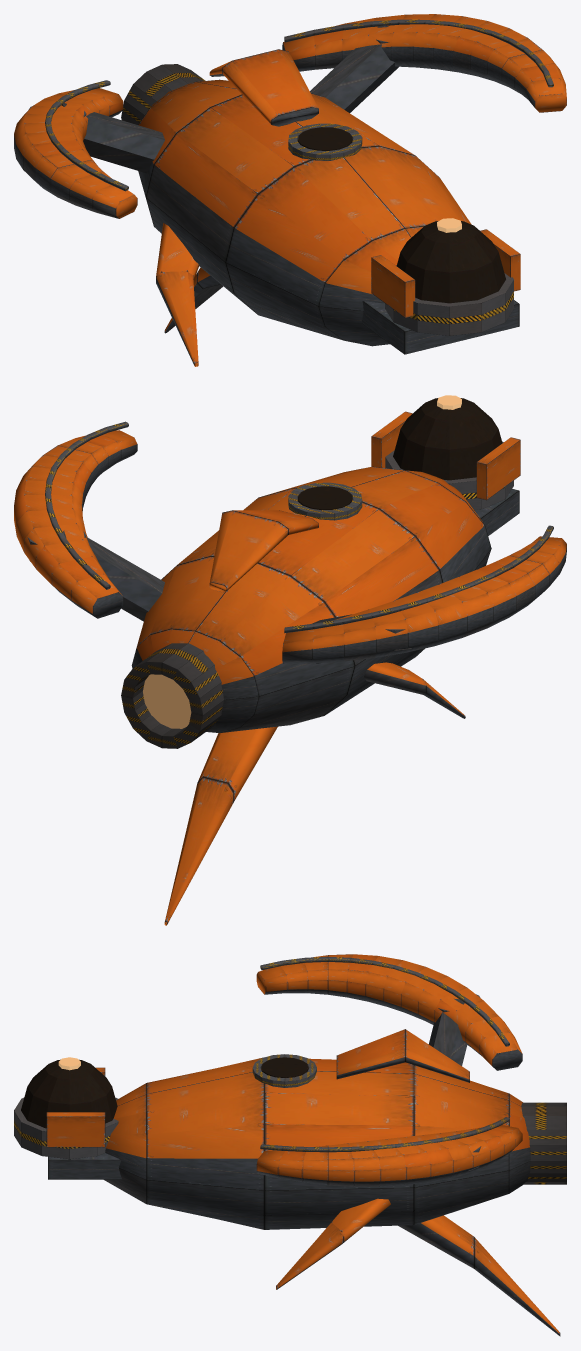
File: pioneer-saturn-l04-shield.glb
3 views of the same model, one above another, from view 1: azimuth 30°, elevation 25°; view 2: azimuth 150°, elevation 25°; view 3: azimuth 270°, elevation 25° (orthographic). The views are drawn at different scales.
Visible parts, largest first — view 1: Drone; view 2: Drone; view 3: Drone.
Part boxes in pixels (x1,y1,x2,y2): Drone: (14,14,566,366); Drone: (14,395,566,925); Drone: (14,954,566,1336).
Size of the model in its own units: 1.16 by 0.762 by 1.28.
3 materials, 3 textured.
